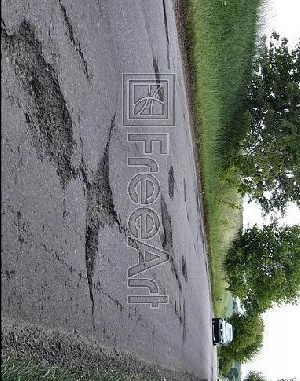pothole: (0, 17, 77, 189), (85, 143, 119, 283), (158, 194, 174, 258), (167, 165, 176, 199)
